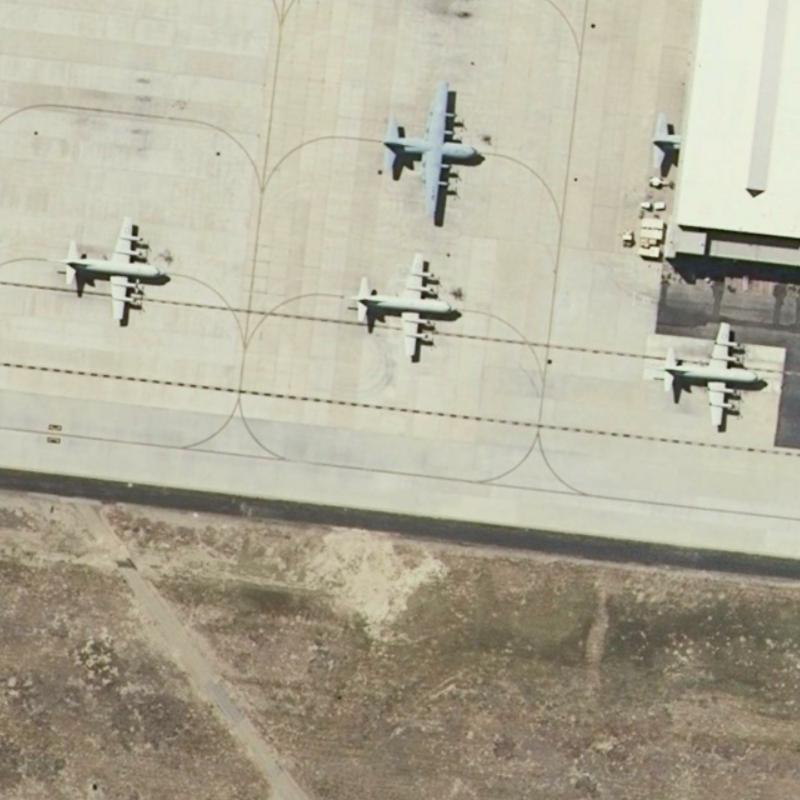A2: (378, 72, 482, 228)
A9: (334, 252, 460, 367), (651, 316, 771, 435), (49, 216, 171, 330)
